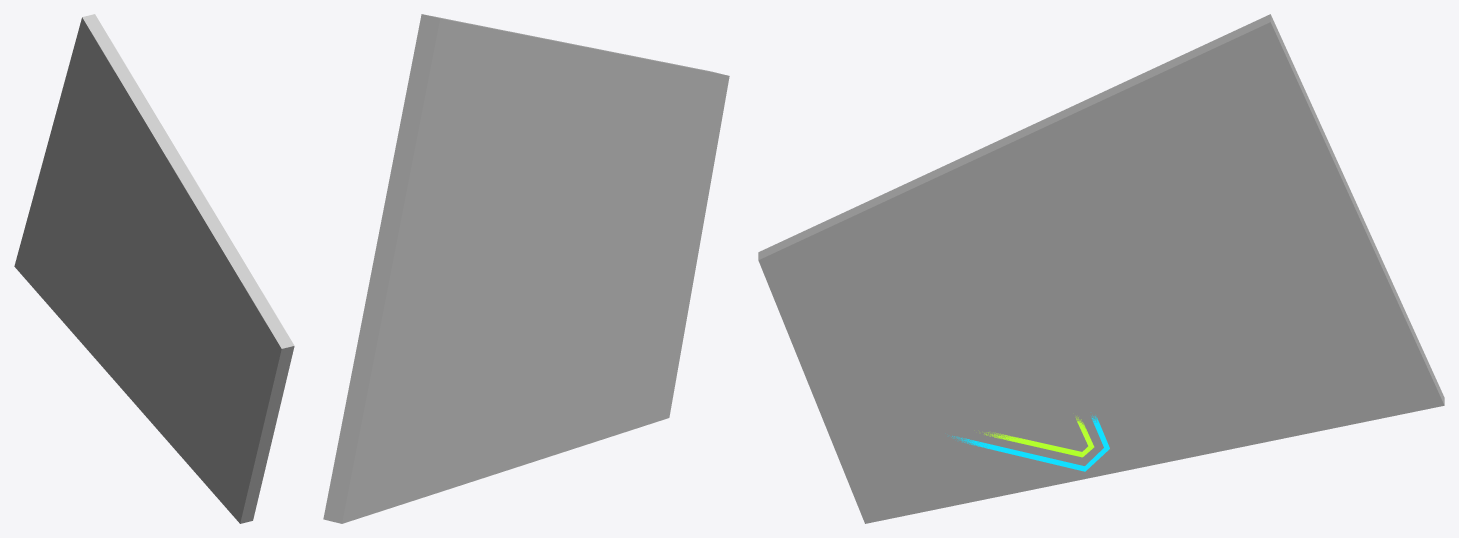
File: SM_Sign_Arrow.fbx
3 renders of one model, left to right at view 1: azimuth 30°, elevation 25°; view 2: azimuth 150°, elevation 25°; view 3: azimuth 270°, elevation 25°, orthographic. The views are drawn at different scales.
Visible parts, largest first — view 1: SM_Sign_Arrow_ConvexHulls; view 2: SM_Sign_Arrow_ConvexHulls; view 3: SM_Sign_Arrow_ConvexHulls, SM_Sign_Arrow.
Boxes of the visible parts, <box> form: SM_Sign_Arrow_ConvexHulls: <box>14,14,294,523</box>; SM_Sign_Arrow_ConvexHulls: <box>323,14,729,523</box>; SM_Sign_Arrow_ConvexHulls: <box>758,14,1444,523</box>; SM_Sign_Arrow: <box>951,415,1109,471</box>.
Bounding box in the file's own units: 3.49 × 126 × 101.
2 materials, 1 textured.
